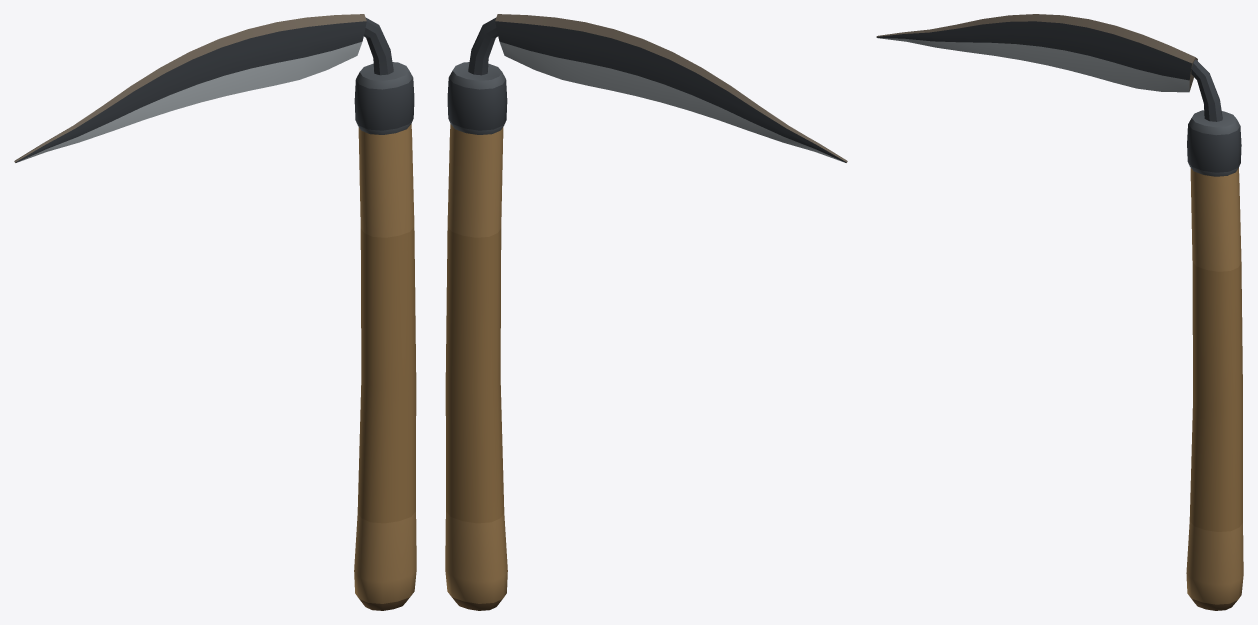
The model's file is sickle.glb.
3 views of the same model, side by side, from view 1: azimuth 30°, elevation 25°; view 2: azimuth 150°, elevation 25°; view 3: azimuth 330°, elevation 25° (orthographic). The views are drawn at different scales.
Parts seen in each view (by area): view 1: handle, blade; view 2: handle, blade; view 3: handle, blade.
Part boxes in pixels (box(x1,y1,x2,y2)): handle: box(354, 62, 416, 610); blade: box(14, 14, 393, 162); handle: box(445, 62, 507, 610); blade: box(468, 14, 847, 162); handle: box(1186, 110, 1243, 610); blade: box(876, 14, 1222, 121).
Size of the model in its own units: 0.2335 by 0.3403 by 0.027.
